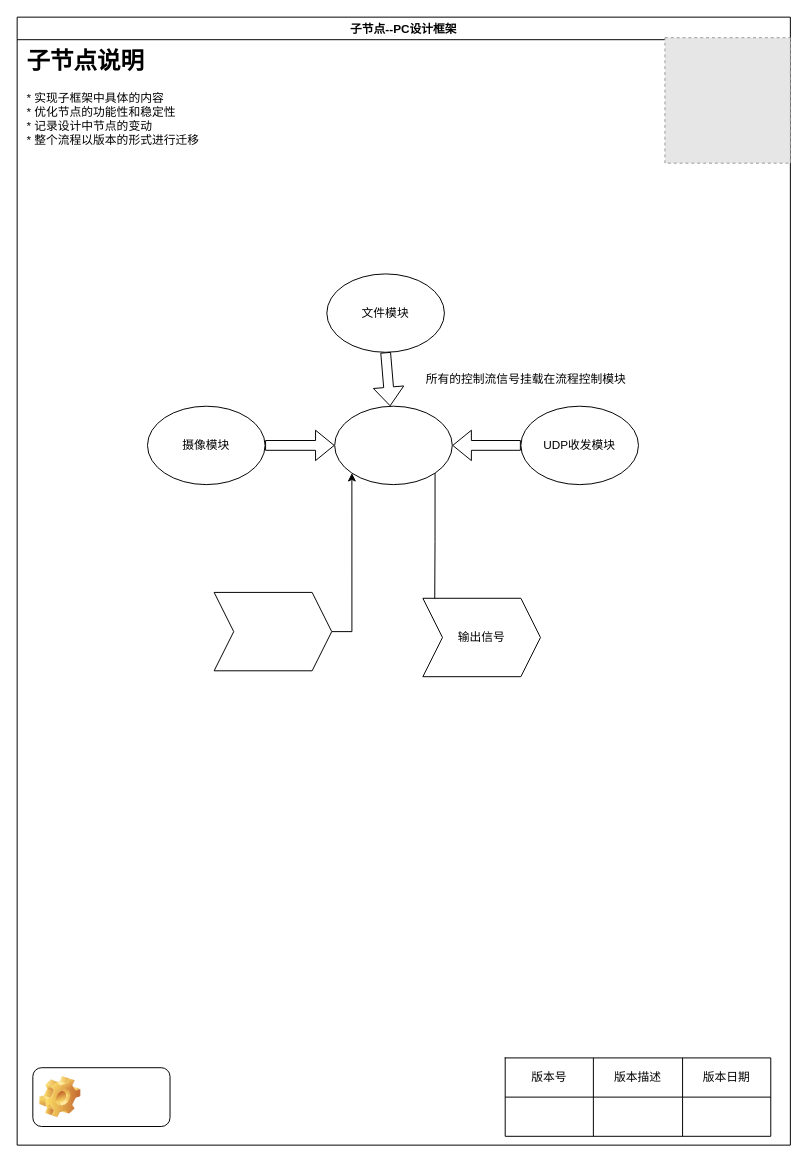
Image size: 808x1162. Some labels were removed from this diagram. Grey dashed boxes stand in for pictures. Here are the shapes that lost their labels. From the top down, the box of each, then its label:
(334, 405, 452, 485): 链接模式模块
(213, 591, 332, 671): 输入信号
(32, 1067, 170, 1127): FpgaPublish
